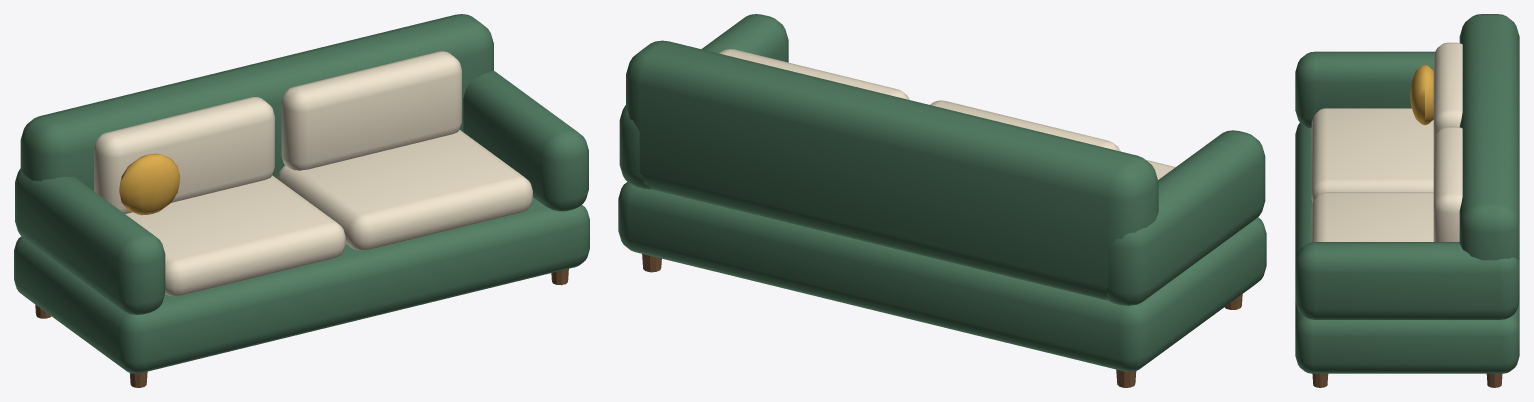
File: sofa.glb
3 views of the same model, side by side, from view 1: azimuth 30°, elevation 25°; view 2: azimuth 150°, elevation 25°; view 3: azimuth 270°, elevation 25° (orthographic). The views are drawn at different scales.
Visible parts, largest first — view 1: FURN-sofa; view 2: FURN-sofa; view 3: FURN-sofa.
Part boxes in pixels (x1,y1,x2,y2): FURN-sofa: (14, 14, 589, 387); FURN-sofa: (618, 14, 1266, 387); FURN-sofa: (1295, 14, 1519, 387).
Bounding box in the file's own units: 2 × 0.8 × 0.9.
